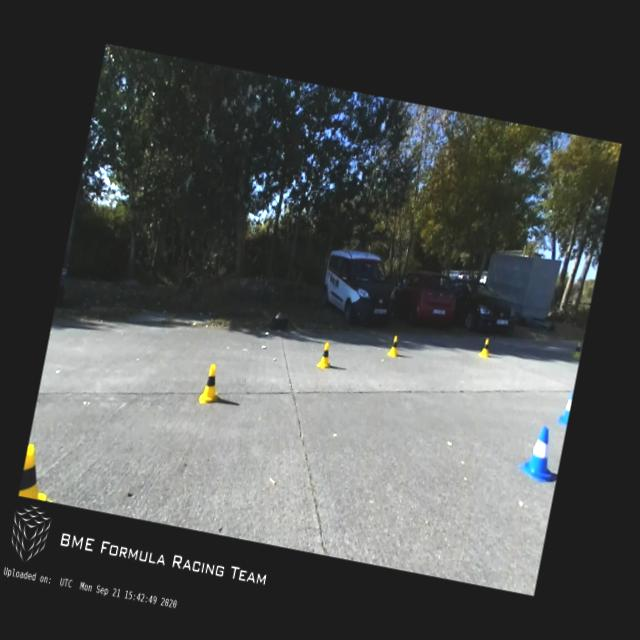blue_cone: (518, 423, 564, 484), (558, 389, 574, 425)
yellow_cone: (18, 443, 64, 503), (198, 362, 224, 407), (316, 340, 334, 370), (386, 334, 402, 357), (479, 337, 493, 358), (572, 341, 582, 358)
